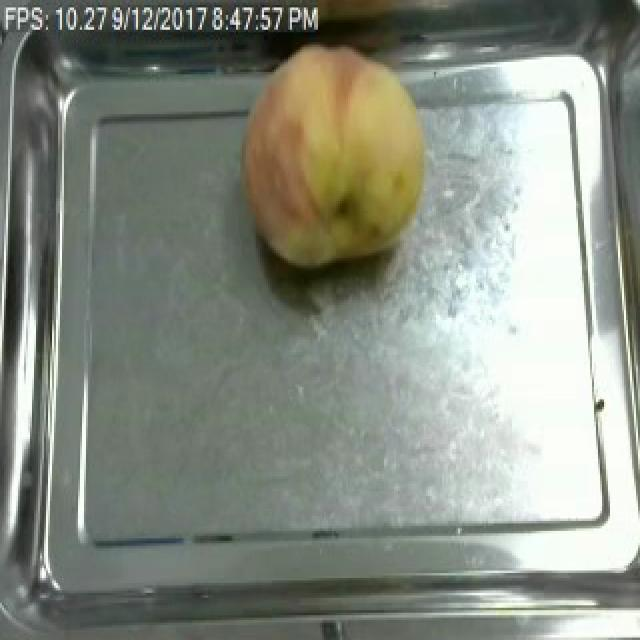Fruit: (234, 32, 440, 278)
